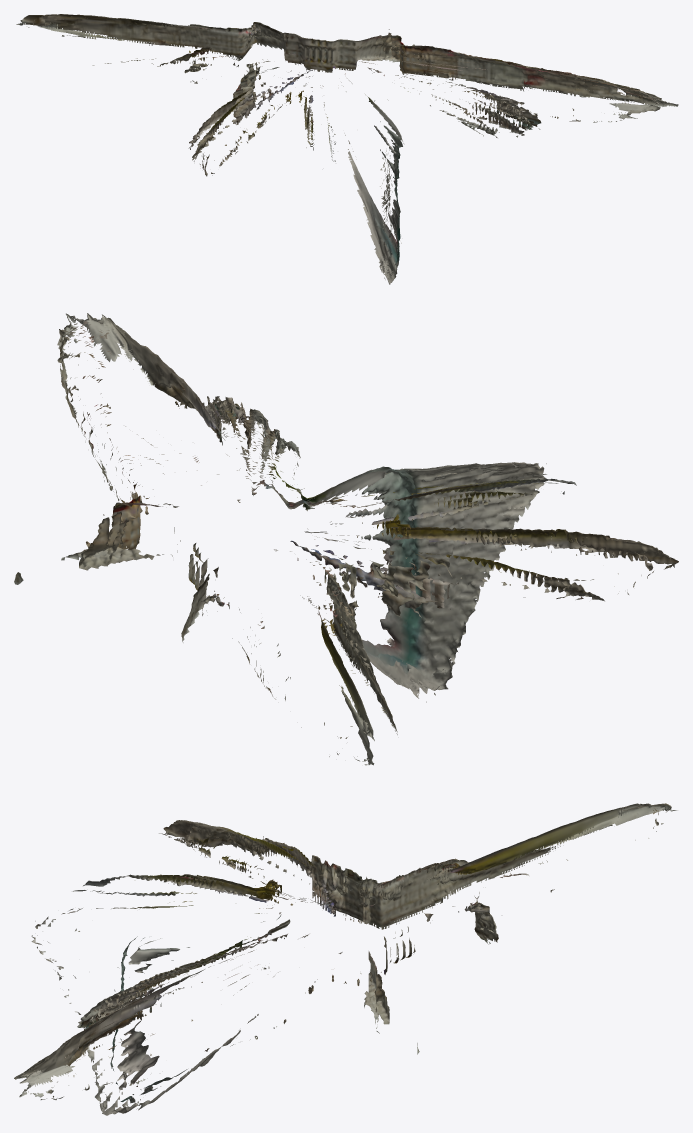
Rendered from collider.glb.
3 renders of one model, top to bottom at view 1: azimuth 30°, elevation 25°; view 2: azimuth 150°, elevation 25°; view 3: azimuth 270°, elevation 25°, orthographic. The views are drawn at different scales.
Visible parts, largest first — view 1: world; view 2: world; view 3: world.
Part boxes in pixels (bbox=[...]): world: bbox=[16, 14, 678, 284]; world: bbox=[14, 313, 678, 765]; world: bbox=[14, 803, 677, 1115].
Bounding box in the file's own units: 84.25 × 30.79 × 84.56.
